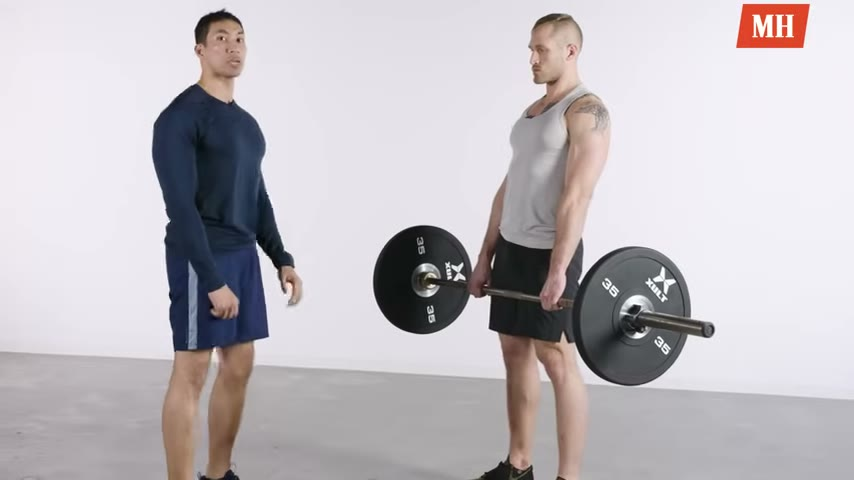barbell_plate_side: (630, 240, 716, 389), (367, 221, 460, 348)
